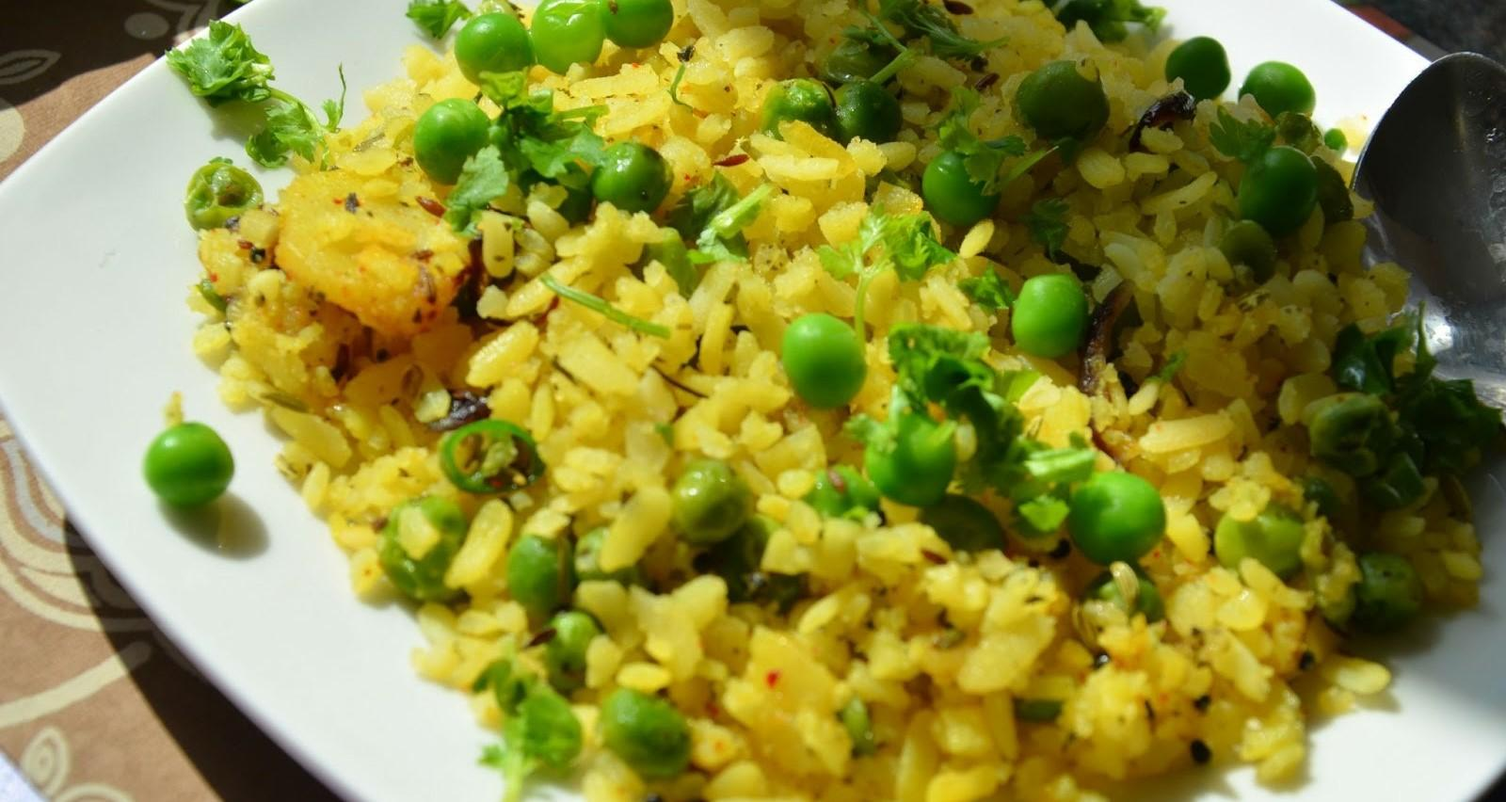Poha: (142, 0, 1506, 802)
